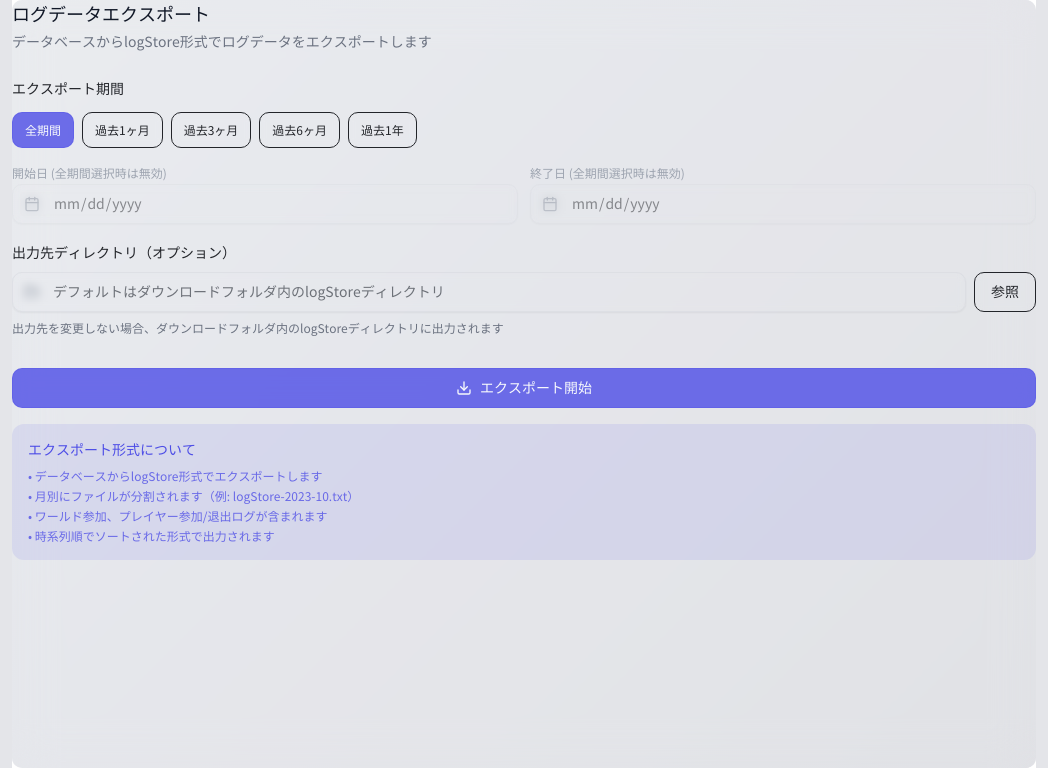
Test case: DataExport › 期間指定時に日付が未入力の場合はエクスポートボタンが無効
The image size is (1048, 768).
Note: 過去1ヶ月を選択して日付をクリア
Click the button "過去1ヶ月" at (122, 130), box [82,112,163,148]
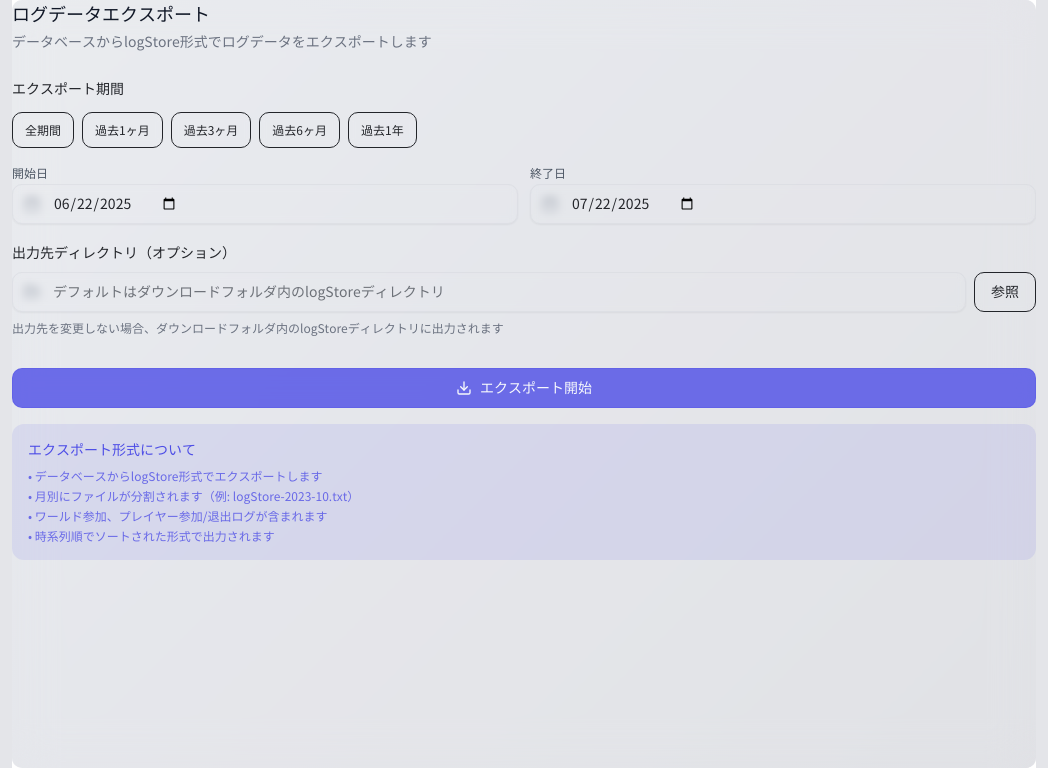
Clear the date field labelled "開始日" at (265, 204), box [12,184,518,224]
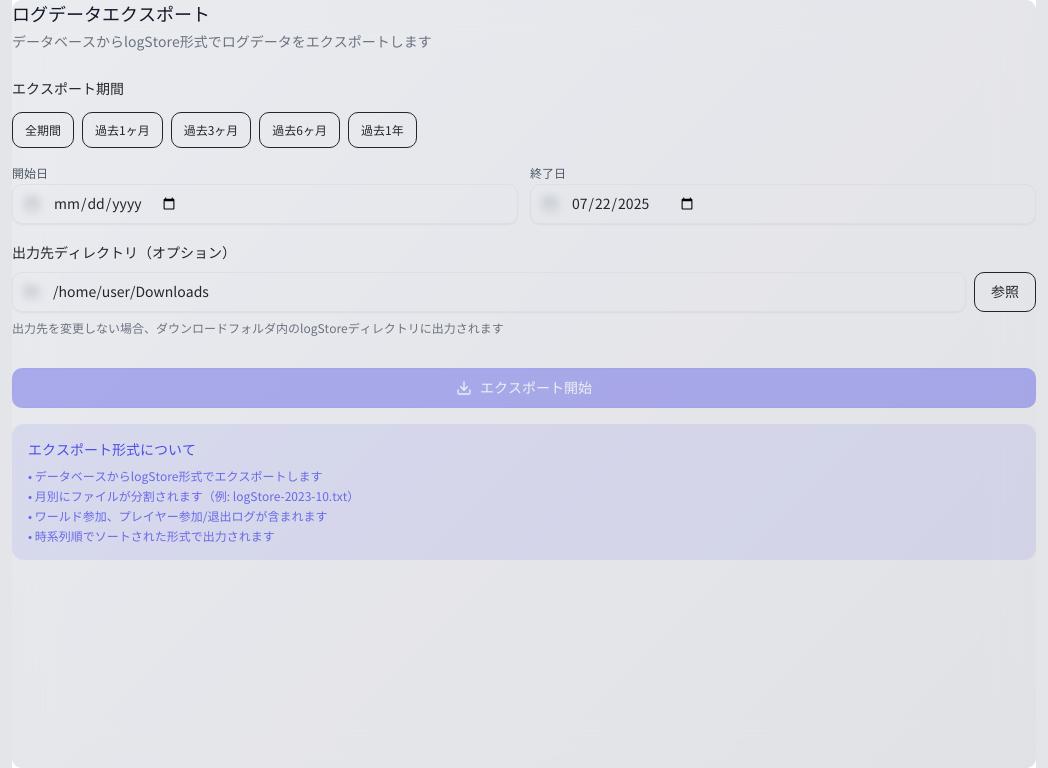
Now the button "エクスポート開始" is disabled, box [12,368,1036,408]
